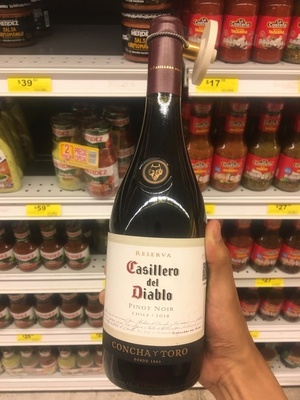casillero del diablo pinot noir: (102, 1, 209, 399)
